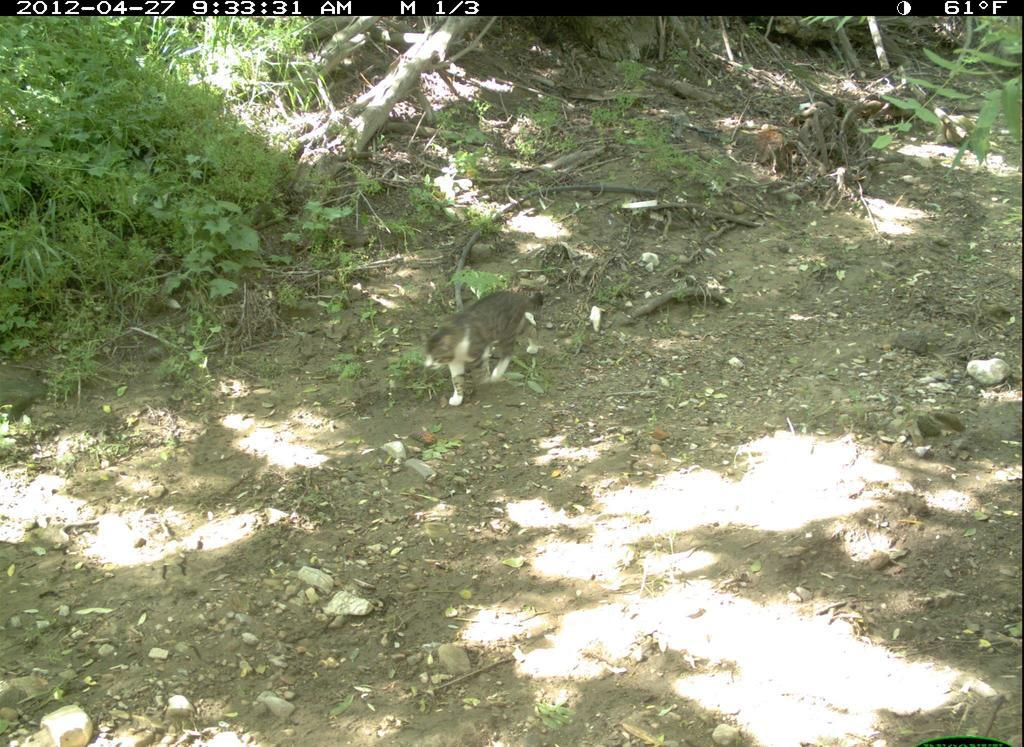cat: (415, 271, 551, 423)
